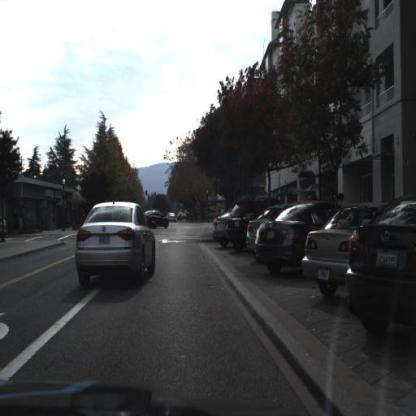car: (345, 193, 416, 333), (75, 198, 159, 292), (302, 203, 374, 299), (255, 201, 327, 276), (227, 195, 258, 252), (145, 205, 174, 234), (213, 212, 229, 248), (146, 210, 171, 231), (246, 217, 257, 262)
